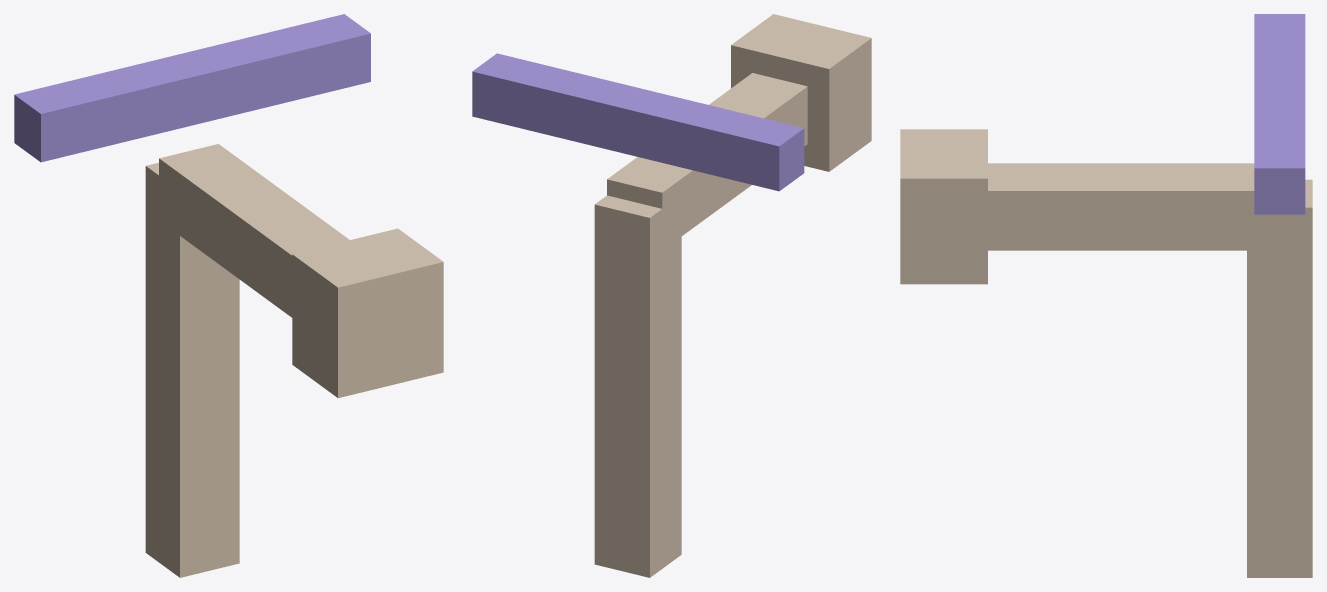
The model's file is tap.gltf.
3 views of the same model, side by side, from view 1: azimuth 30°, elevation 25°; view 2: azimuth 150°, elevation 25°; view 3: azimuth 270°, elevation 25° (orthographic). The views are drawn at different scales.
Parts seen in each view (by area): view 1: stem, handle, nozzle, spout; view 2: stem, handle, nozzle, spout; view 3: spout, stem, nozzle, handle.
Boxes of the visible parts, bbox=[...] form: stem: bbox=[145, 162, 239, 577]; handle: bbox=[14, 14, 370, 162]; nozzle: bbox=[292, 228, 443, 398]; spout: bbox=[159, 144, 349, 317]; stem: bbox=[594, 195, 681, 577]; handle: bbox=[472, 53, 804, 191]; nozzle: bbox=[731, 14, 871, 171]; spout: bbox=[607, 73, 807, 250]; spout: bbox=[988, 163, 1286, 250]; stem: bbox=[1247, 179, 1312, 577]; nozzle: bbox=[900, 129, 987, 284]; handle: bbox=[1254, 14, 1305, 214].
Size of the model in its own units: 0.25 by 0.3575 by 0.2825.
